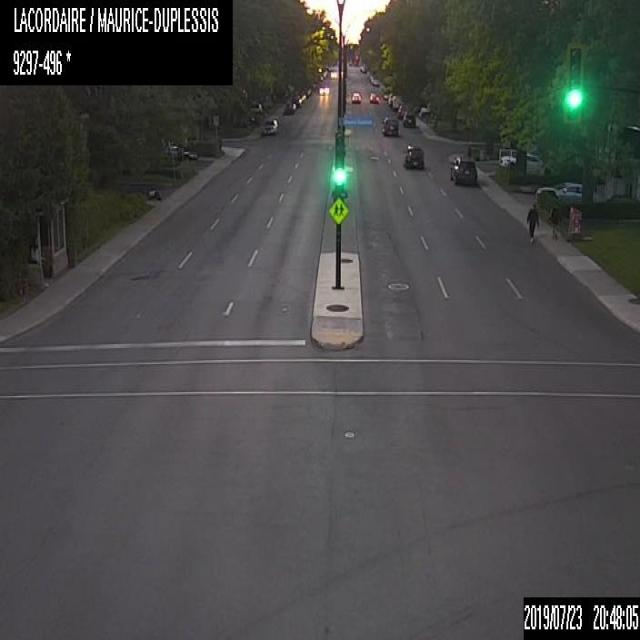pedestrian: (29, 235, 45, 285), (526, 200, 538, 243), (546, 202, 560, 238)
vehicle: (536, 181, 581, 202), (500, 151, 544, 172), (449, 155, 476, 184), (165, 144, 198, 160), (404, 142, 424, 166), (261, 116, 278, 136), (381, 117, 398, 135), (402, 110, 416, 127), (396, 102, 409, 118), (392, 94, 404, 110), (418, 105, 429, 120), (282, 100, 294, 113), (290, 93, 302, 106), (316, 82, 328, 94), (249, 100, 261, 112), (350, 90, 361, 102), (368, 90, 379, 102), (387, 92, 393, 105), (372, 77, 378, 85)
